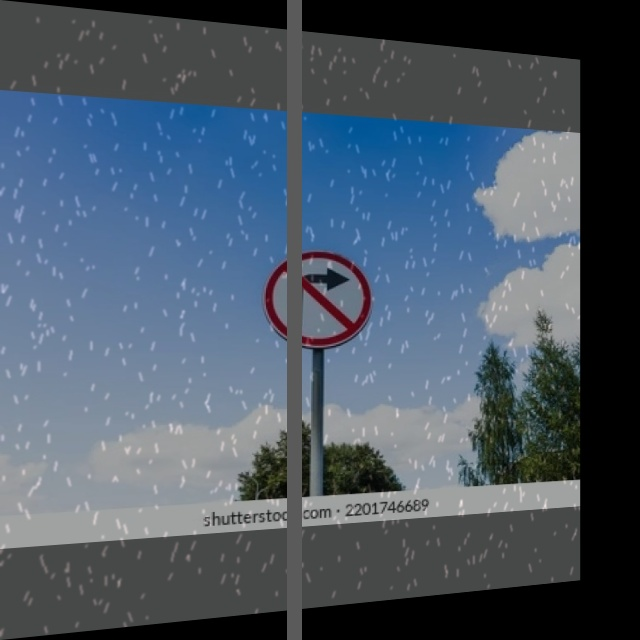Right_Turn_Prohibited: (264, 247, 371, 351)
